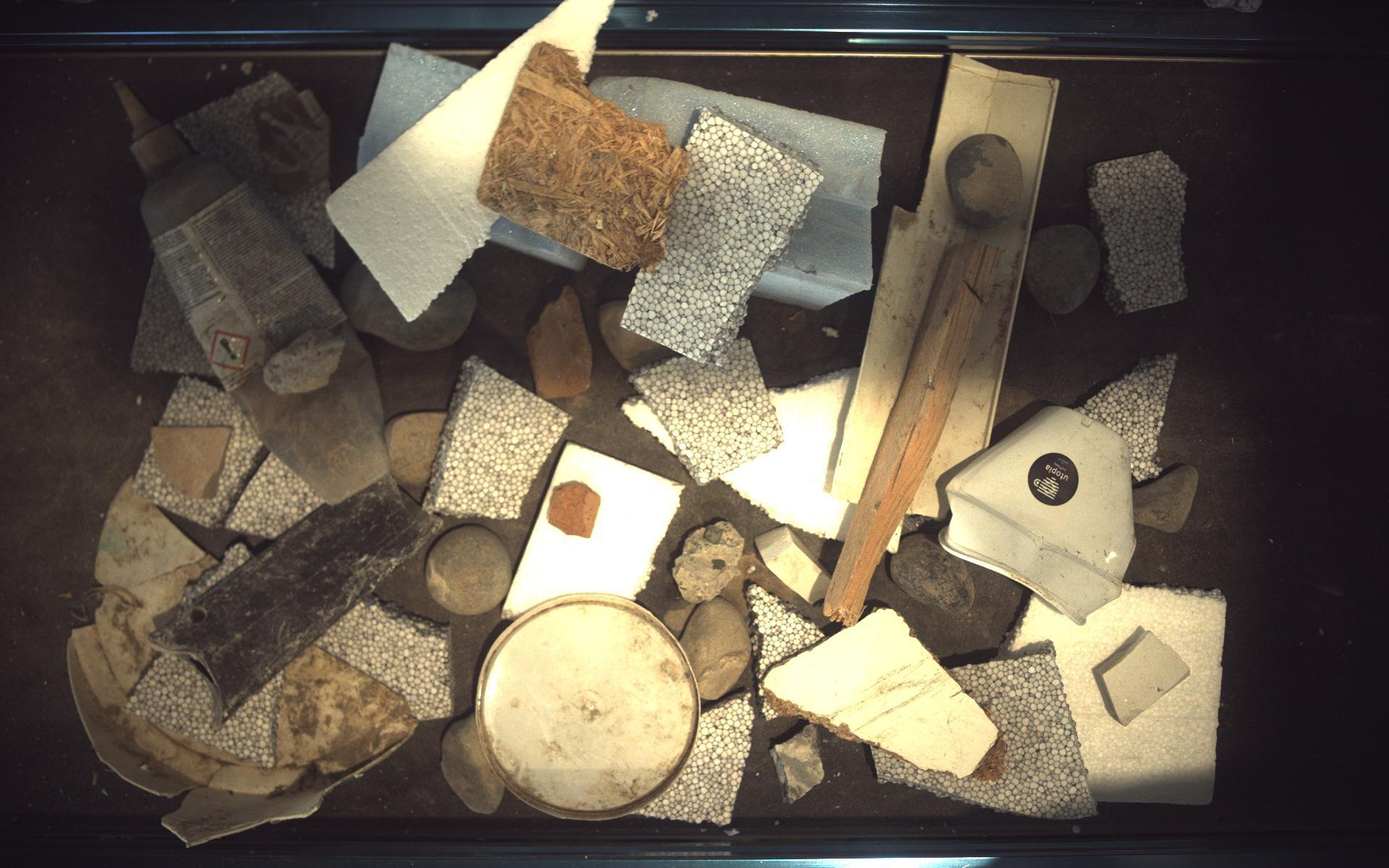brick: (527, 284, 592, 399), (548, 482, 600, 539)
concrete: (674, 522, 745, 604), (263, 328, 345, 395)
foam: (327, 1, 613, 320), (591, 75, 887, 309), (622, 108, 824, 364), (1002, 585, 1229, 806), (873, 647, 1099, 821), (172, 71, 335, 268), (504, 443, 684, 619), (423, 355, 570, 519), (723, 369, 859, 540), (631, 338, 784, 485), (132, 376, 266, 528), (124, 655, 283, 770), (315, 597, 452, 722), (1090, 150, 1190, 313), (638, 694, 755, 827), (357, 42, 476, 169), (1080, 353, 1180, 482), (747, 585, 827, 721), (130, 256, 213, 376), (225, 454, 324, 540), (441, 715, 505, 816), (489, 216, 588, 271), (181, 543, 252, 605), (622, 397, 676, 452), (888, 524, 904, 555)
general_w: (942, 407, 1137, 624)
plastic: (67, 481, 416, 848), (115, 81, 389, 505), (831, 53, 1061, 518), (149, 477, 442, 719), (475, 595, 701, 821)
stone: (341, 261, 477, 351), (425, 525, 512, 616), (681, 597, 752, 702), (948, 133, 1025, 227), (891, 535, 977, 616), (1027, 224, 1103, 314), (599, 300, 674, 371), (386, 412, 447, 486), (1136, 466, 1202, 534)
tile: (1095, 627, 1193, 727), (252, 88, 329, 196), (150, 426, 230, 499), (757, 527, 831, 605), (772, 725, 825, 804)
wood: (826, 241, 999, 628), (477, 41, 691, 269), (765, 610, 1009, 782)
